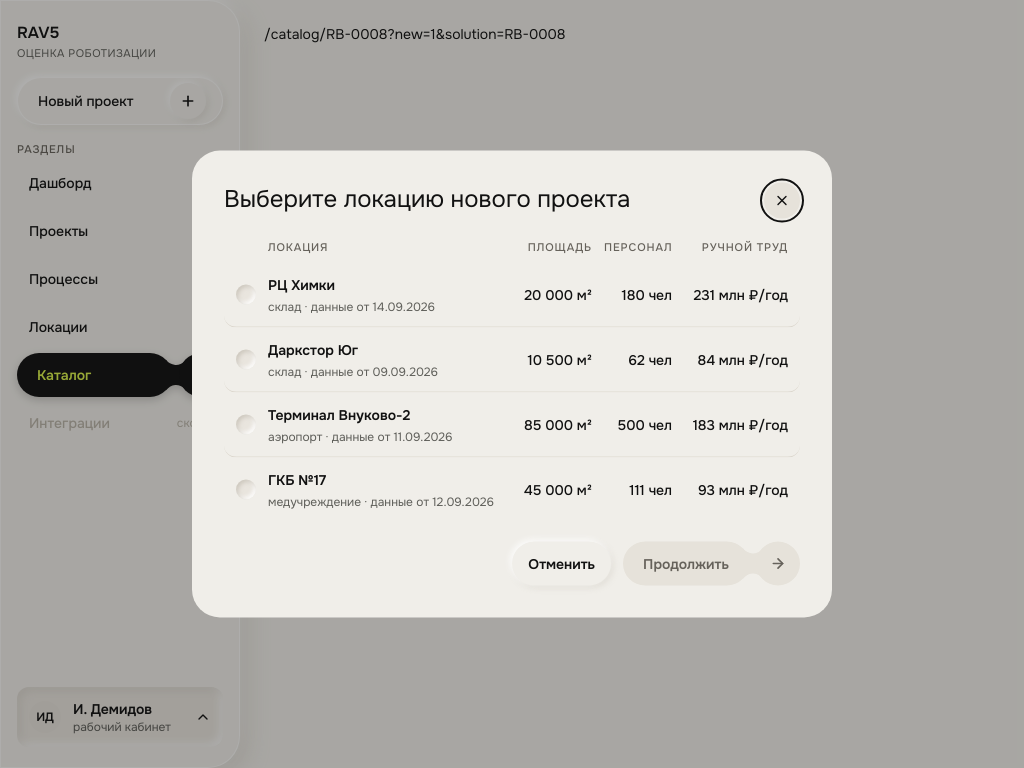
Scenario: NewProjectDialog (A2) › creates a draft «Новый проект · <локация>» on Enter and goes to step 1
The image size is (1024, 768).
Click the radio button with aria-label "Даркстор Юг, склад · данные от 09.09.2026; площадь 10 500 м²" at x=313, y=350, box [224,328,800,392]
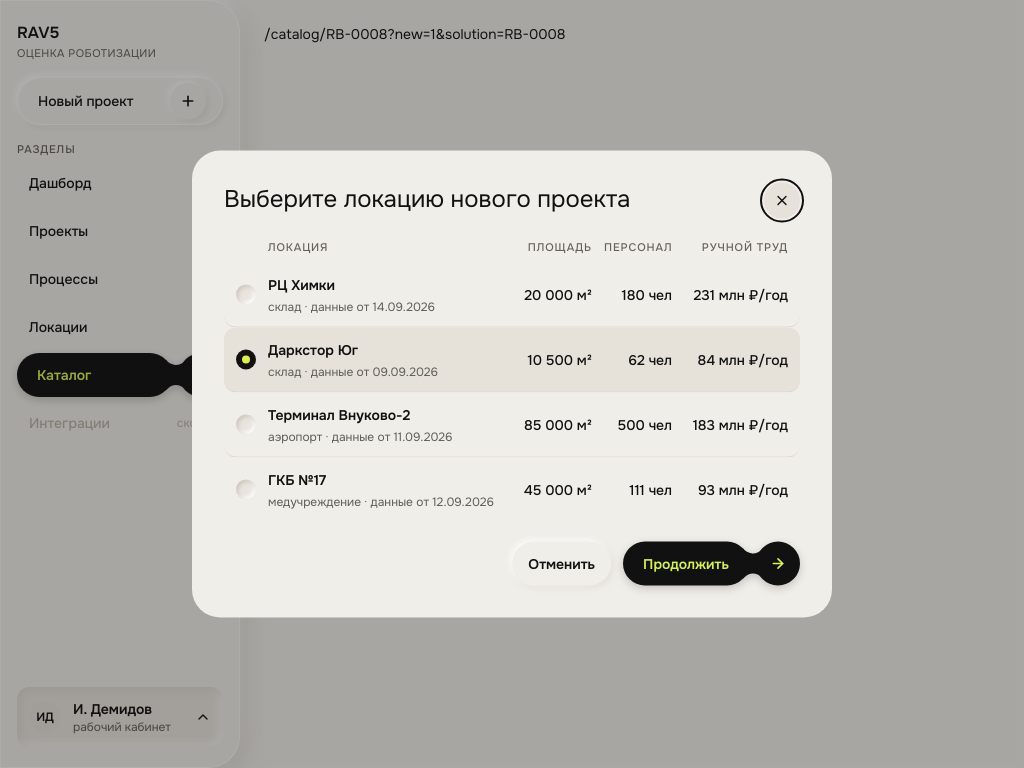
Press Enter in the radio button with aria-label "Даркстор Юг, склад · данные от 09.09.2026; площадь 10 500 м²", box [224,328,800,392]
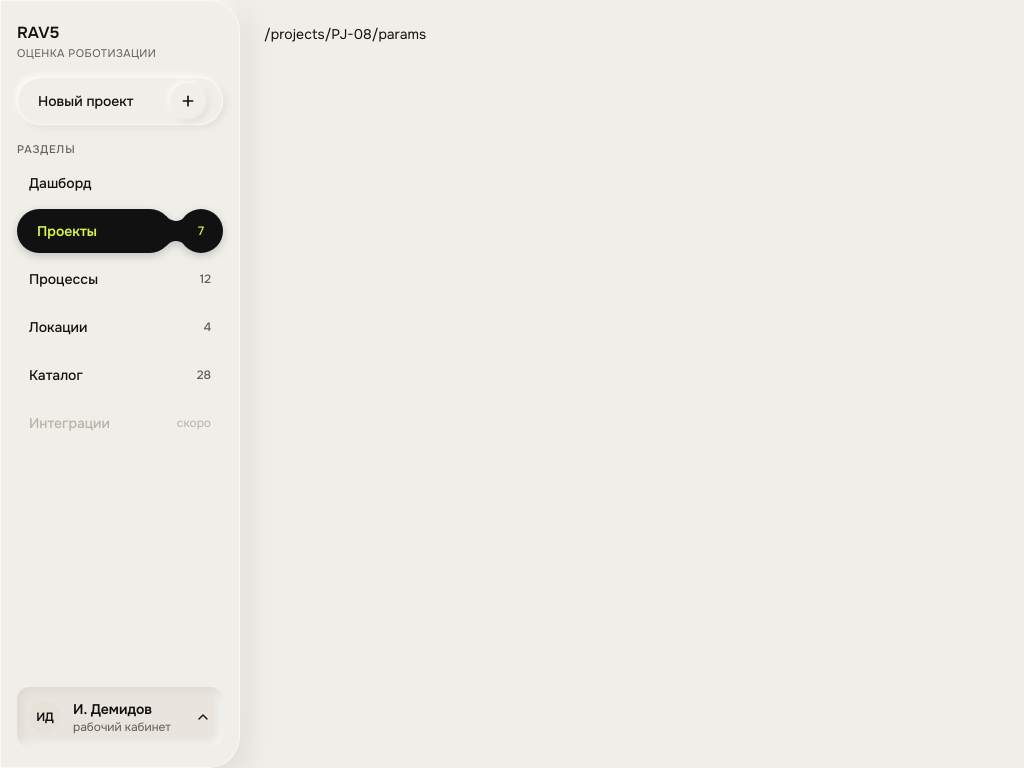
Check: the text with test id "location" reads "/projects/PJ-08/params", box [264,25,426,43]
